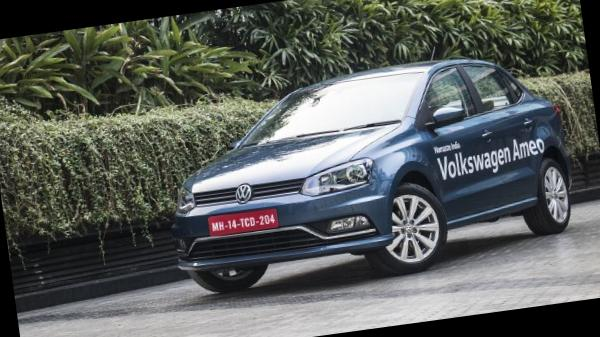plate: (200, 201, 289, 247)
